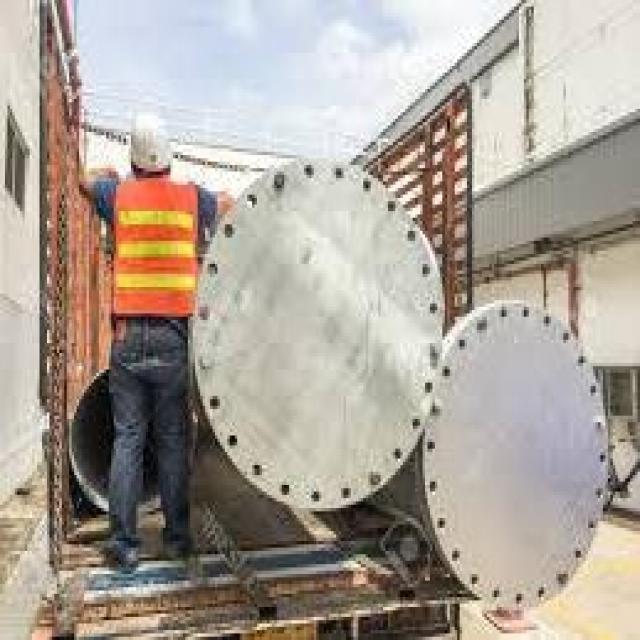reflective_jacket: (93, 171, 217, 336)
safety_helmet: (118, 95, 182, 178)
